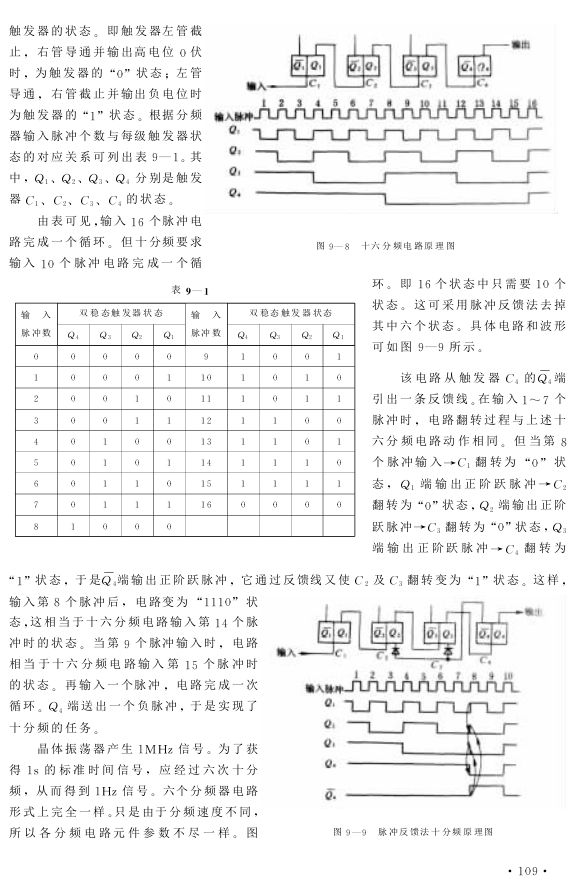table: (14, 301, 356, 536)
